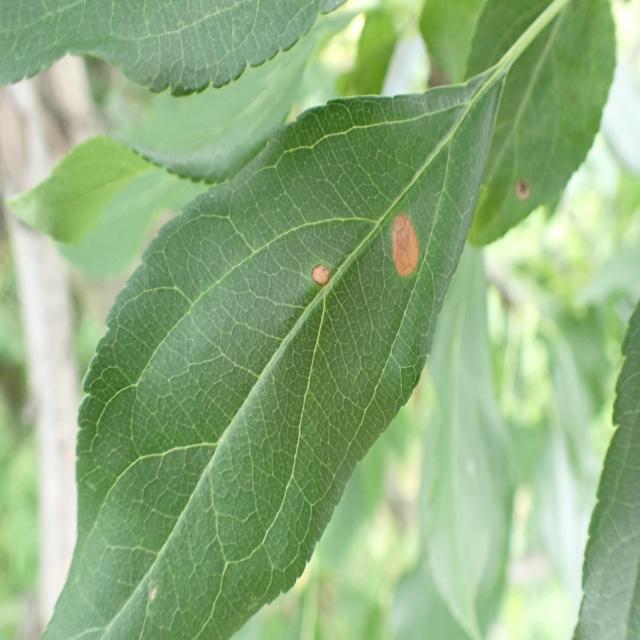Black Rot: (371, 187, 432, 300), (291, 228, 337, 314), (504, 169, 540, 233)
